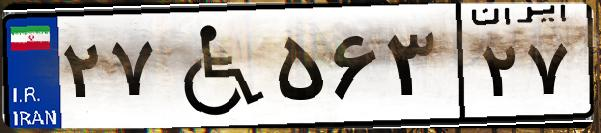2: (57, 26, 110, 100), (475, 38, 525, 113)
3: (385, 28, 445, 110)
5: (270, 28, 330, 110)
6: (330, 28, 385, 110)
7: (525, 38, 570, 115), (110, 28, 158, 98)
ژ (معلولین و جانبازان): (158, 12, 270, 120)
